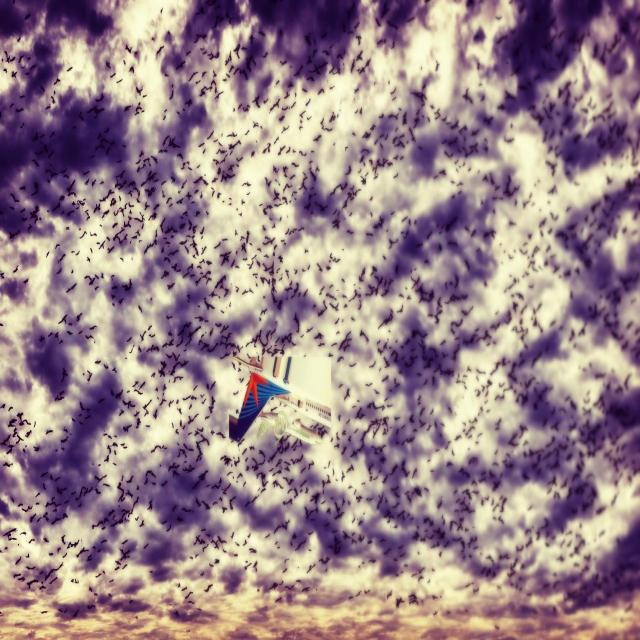airplane: (228, 351, 332, 447)
